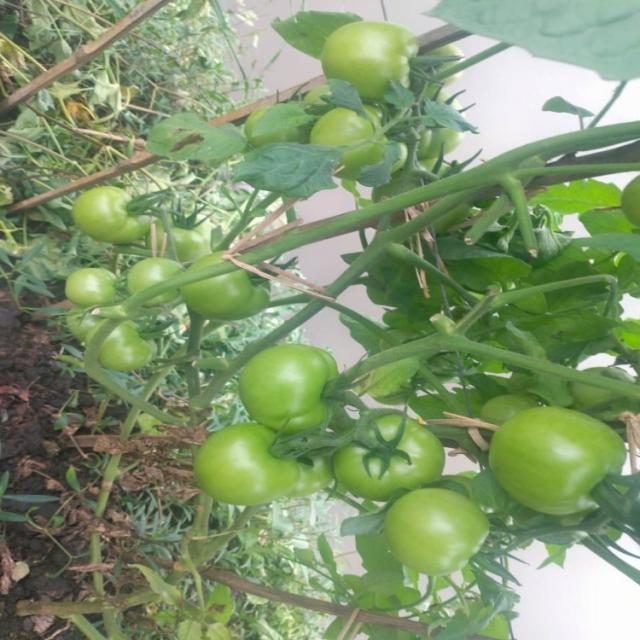tomato: (232, 329, 369, 455), (486, 401, 619, 521), (327, 396, 449, 509), (372, 478, 485, 584), (315, 10, 431, 113), (182, 422, 295, 510), (174, 253, 287, 321), (312, 106, 404, 175), (68, 167, 150, 243), (91, 326, 172, 397), (114, 244, 201, 305), (52, 253, 116, 311), (410, 121, 467, 165)
